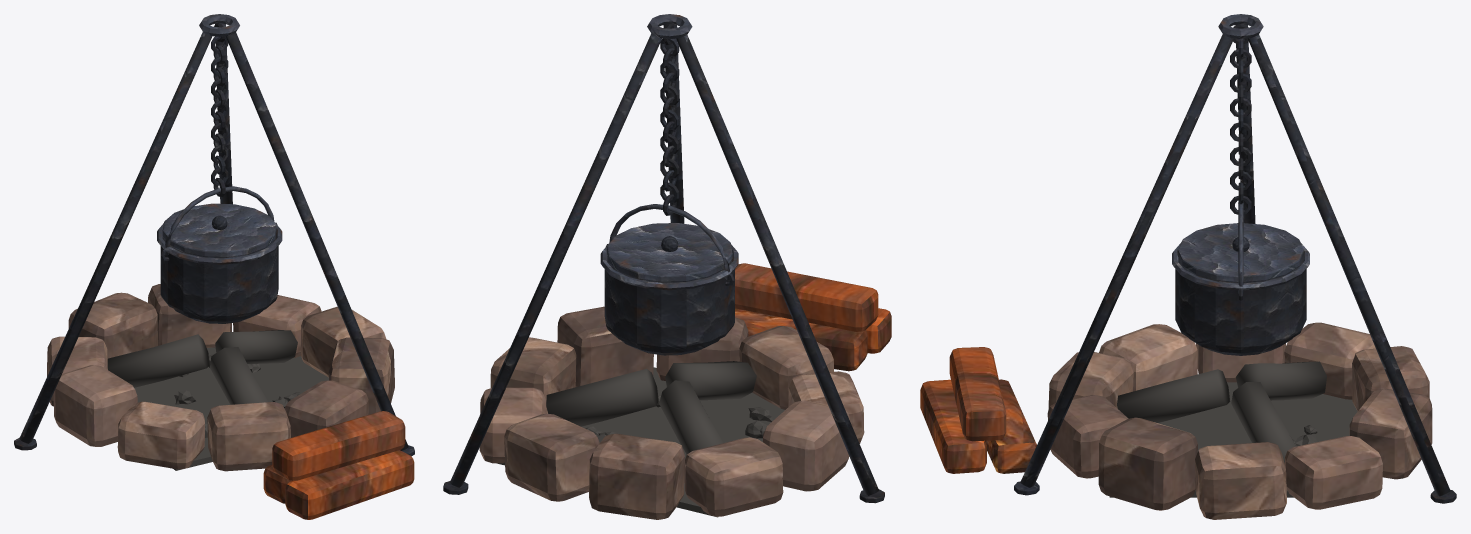
Rendered from op_hearth_tripod.glb.
3 renders of one model, left to right at view 1: azimuth 30°, elevation 25°; view 2: azimuth 150°, elevation 25°; view 3: azimuth 270°, elevation 25°, orthographic. The views are drawn at different scales.
Parts seen in each view (by area): view 1: model; view 2: model; view 3: model.
Part boxes in pixels (<box>): model: <box>14,14,414,519</box>; model: <box>443,14,891,519</box>; model: <box>920,14,1456,519</box>.
Size of the model in its own units: 1.02 by 1.06 by 1.22.
Materials: 7 (6 with a texture image).
